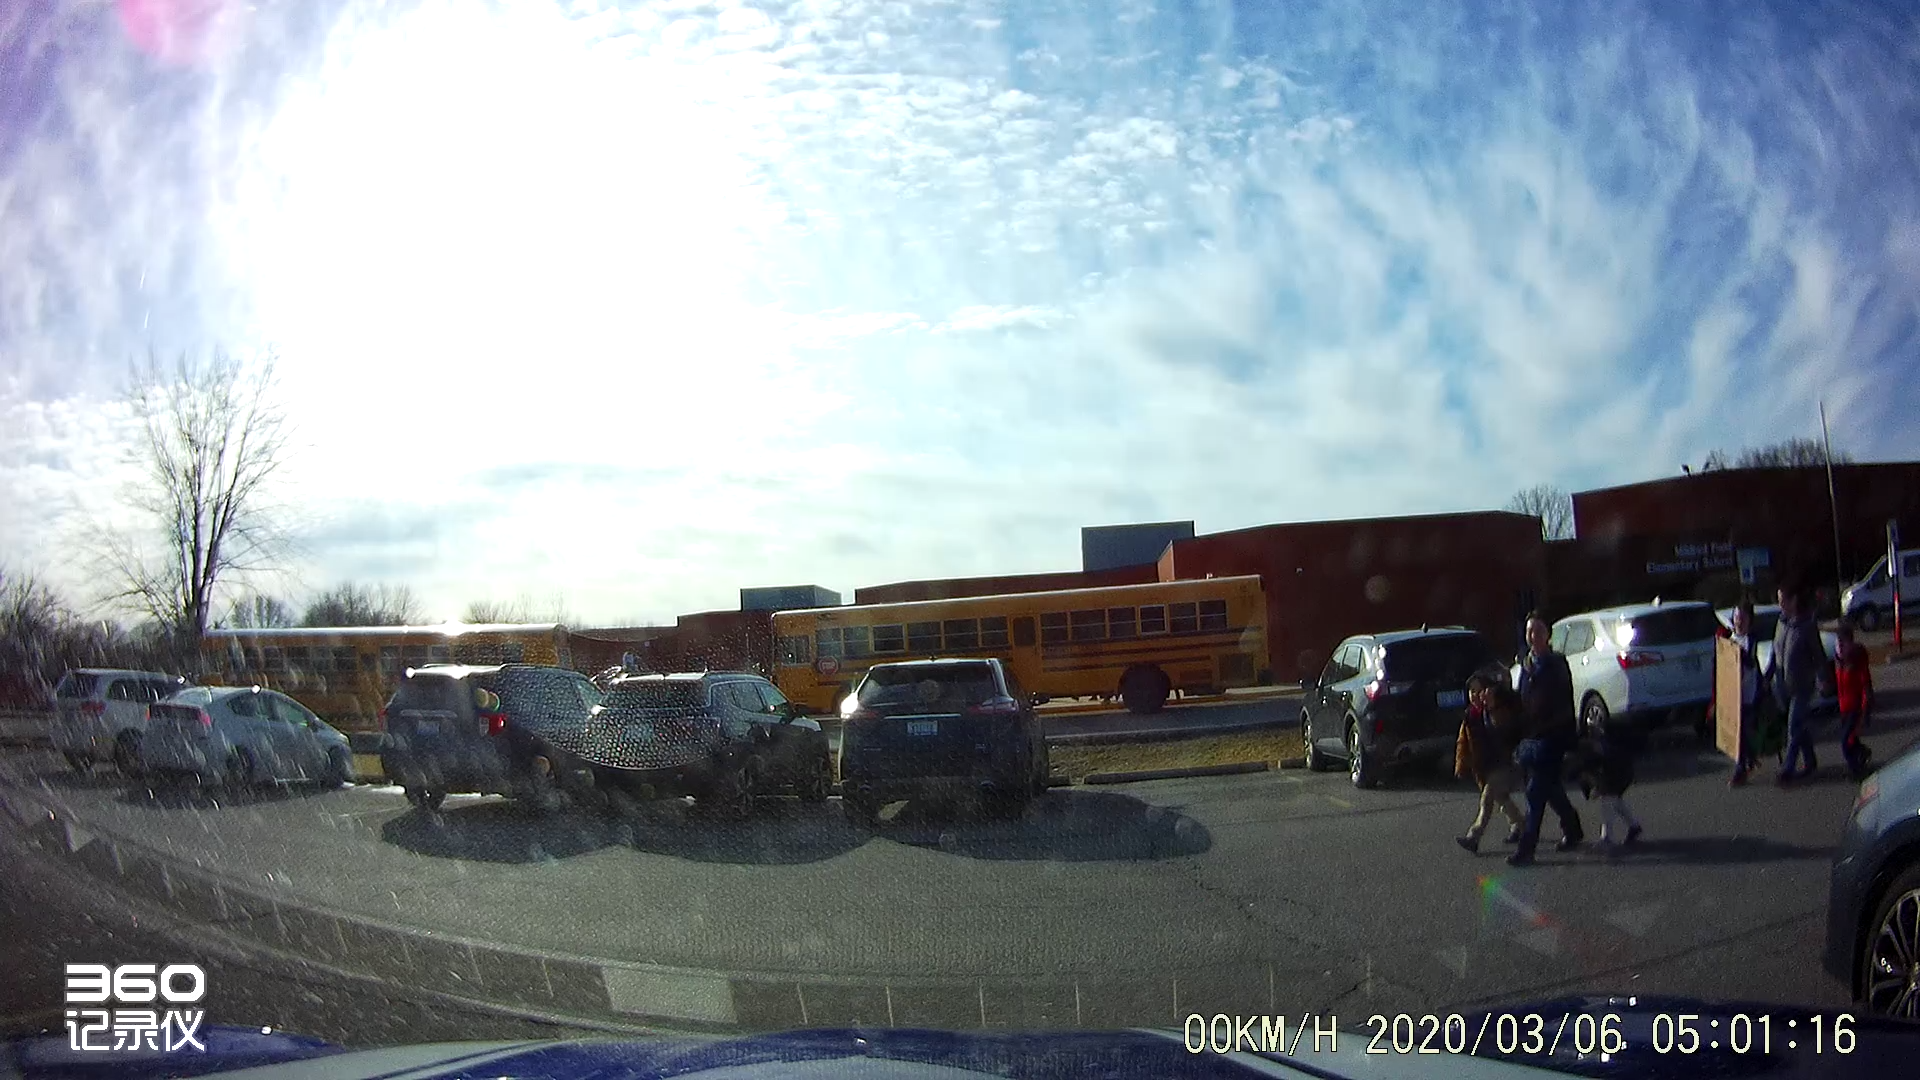License Plate: (1436, 688, 1464, 708), (908, 721, 937, 738)
